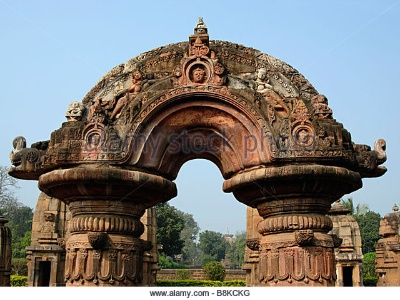torana: (19, 17, 387, 281)
